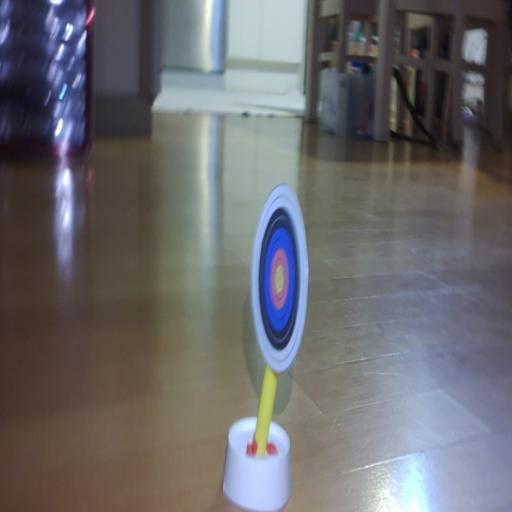target: (251, 186, 308, 372)
